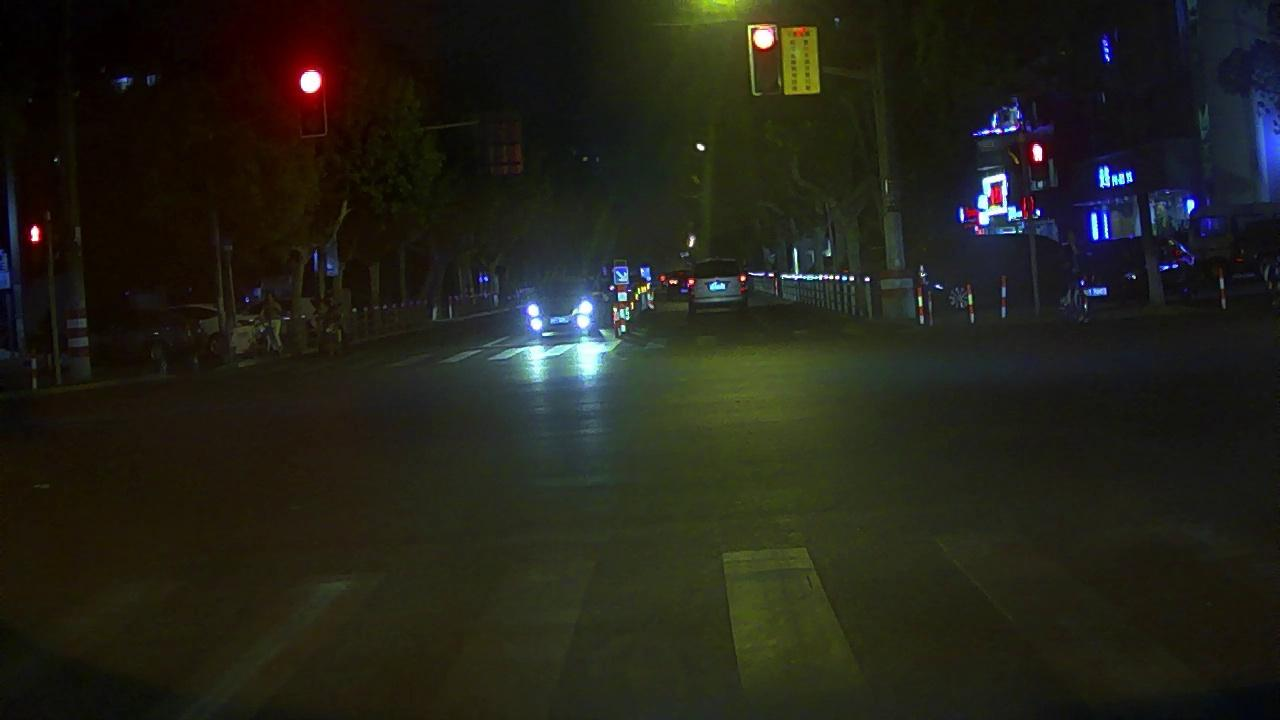traffic_light: (751, 28, 781, 92), (297, 68, 325, 133)
